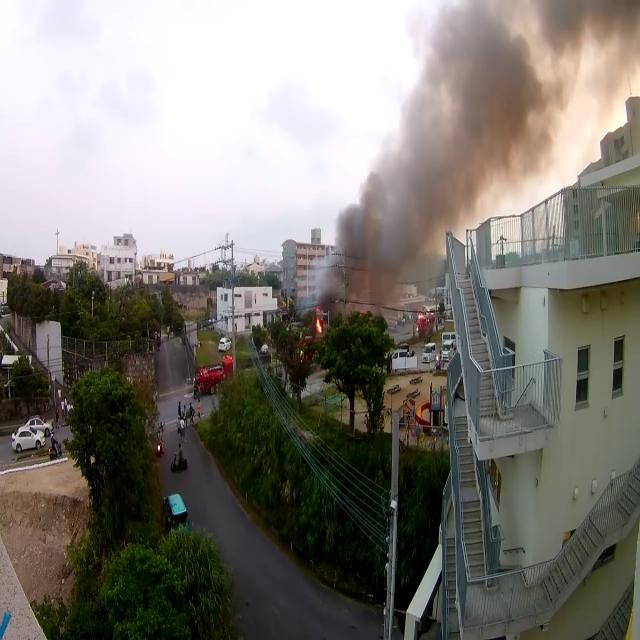smoke: (412, 120, 498, 186), (450, 40, 526, 111), (364, 190, 424, 258)
